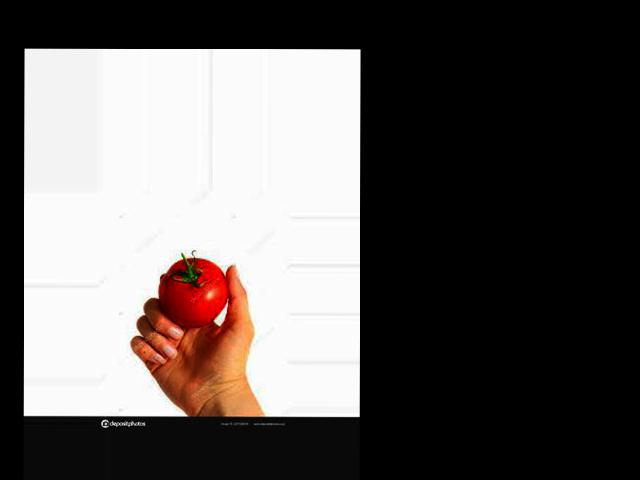tomato: (160, 257, 228, 328)
